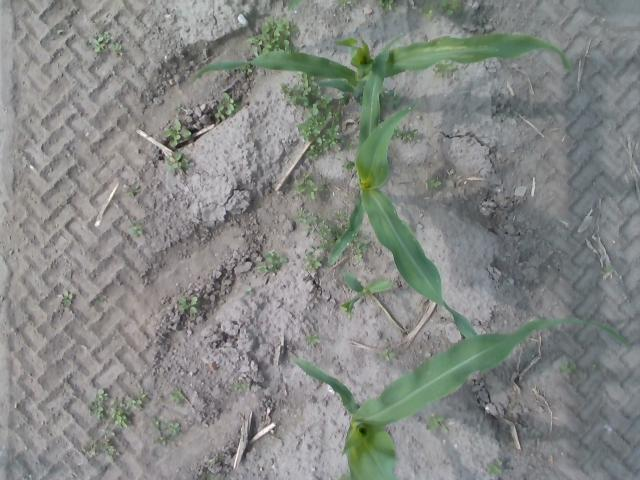Maize: (292, 316, 630, 480), (326, 36, 478, 337), (187, 33, 575, 100), (288, 0, 302, 11)
Weeds: (294, 91, 344, 160), (84, 386, 153, 430), (294, 204, 338, 248), (245, 18, 297, 54), (79, 428, 121, 462), (277, 72, 317, 103), (162, 118, 193, 150), (211, 90, 244, 120), (152, 415, 180, 448), (256, 251, 290, 276), (164, 150, 192, 178), (292, 172, 318, 200), (195, 455, 221, 480), (379, 85, 403, 109), (304, 250, 325, 277), (425, 414, 451, 435), (88, 33, 110, 56), (392, 127, 420, 143), (128, 215, 146, 238), (178, 296, 200, 314), (436, 0, 462, 15), (351, 240, 367, 264), (56, 287, 74, 308), (486, 456, 504, 477), (434, 62, 459, 77), (332, 209, 350, 228), (227, 380, 249, 394), (92, 295, 112, 310), (558, 358, 576, 374), (168, 387, 185, 403), (425, 176, 442, 190), (305, 332, 321, 346), (318, 178, 332, 194), (376, 0, 396, 11), (422, 3, 436, 18), (380, 348, 396, 361), (342, 160, 357, 172), (111, 42, 125, 54), (126, 186, 140, 198), (331, 473, 349, 480), (347, 139, 357, 151), (240, 65, 254, 73), (174, 104, 185, 114), (603, 264, 615, 272), (334, 0, 348, 6), (247, 286, 255, 295), (590, 364, 598, 372)
